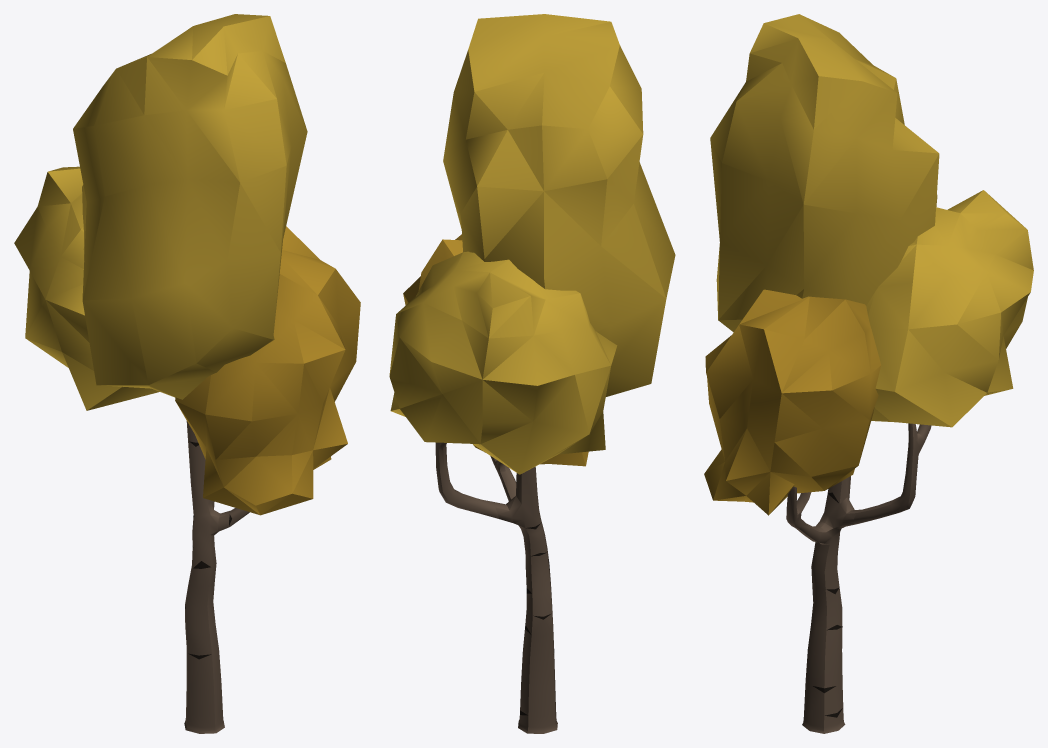
The model's file is tree_ginkgo_1.glb.
The picture shows the model from 3 angles, left to right: view 1: azimuth 30°, elevation 25°; view 2: azimuth 150°, elevation 25°; view 3: azimuth 270°, elevation 25°; orthographic projection. The views are drawn at different scales.
Parts seen in each view (by area): view 1: tree_ginkgo_1; view 2: tree_ginkgo_1; view 3: tree_ginkgo_1.
Part boxes in pixels (<box>): tree_ginkgo_1: <box>14,14,360,733</box>; tree_ginkgo_1: <box>389,14,675,733</box>; tree_ginkgo_1: <box>704,14,1033,733</box>.
Bounding box in the file's own units: 4.23 × 11 × 4.76.
